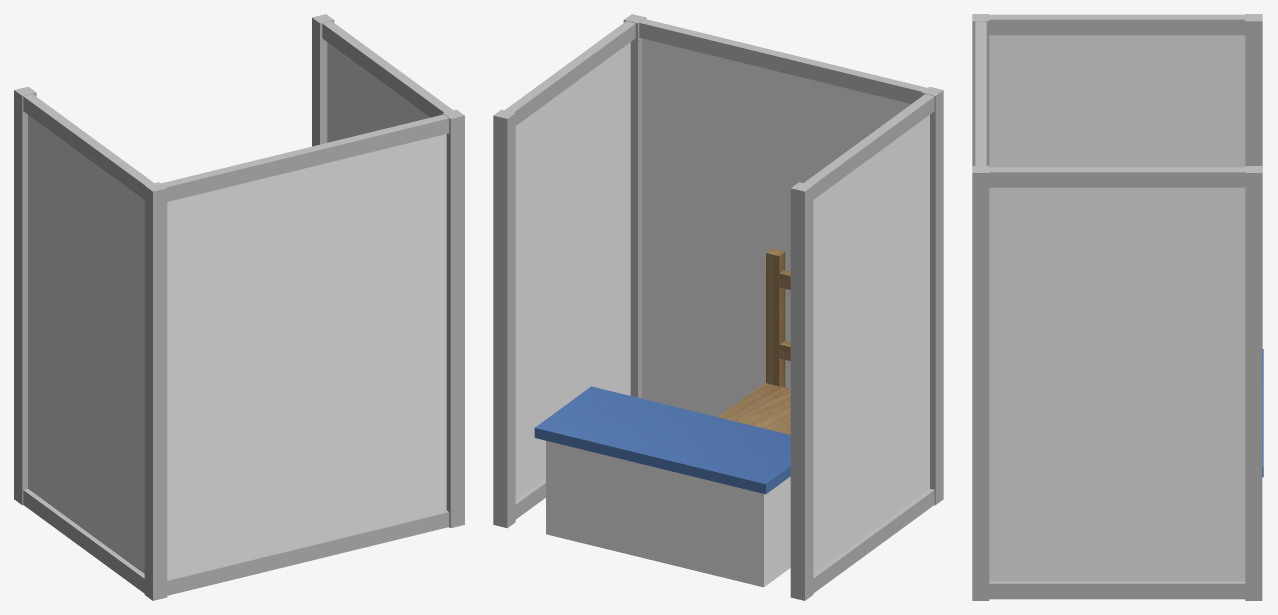
File: stands.obj
The picture shows the model from 3 angles, left to right: view 1: azimuth 30°, elevation 25°; view 2: azimuth 150°, elevation 25°; view 3: azimuth 270°, elevation 25°; orthographic projection. The views are drawn at different scales.
Parts seen in each view (by area): view 1: Plane, Plane.002, Cube.001, Cube, Cube.005, Cube.002, Plane.001, Cube.004, Cube.006, Cube.009, Cube.007, Cube.003; view 2: Plane, Plane.002, Plane.001, Cube.010, Cube.011, Cube.002, Cube.003, Cube.005, Cube.001, Cubo.013, Cube, Cube.006 (+3 smaller); view 3: Plane.001, Plane.002, Cube, Cube.003, Cube.006, Cube.009, Cube.008, Cube.002, Cube.005, Cube.001.
Part boxes in pixels (<box>): Plane: <box>167,134,446,578</box>; Plane.002: <box>28,115,144,573</box>; Cube.001: <box>144,182,167,600</box>; Cube: <box>442,109,464,528</box>; Cube.005: <box>161,114,449,201</box>; Cube.002: <box>14,86,36,505</box>; Plane.001: <box>327,42,429,142</box>; Cube.004: <box>167,510,449,595</box>; Cube.006: <box>23,94,154,199</box>; Cube.009: <box>322,21,452,117</box>; Cube.007: <box>23,489,144,593</box>; Cube.003: <box>312,14,334,146</box>; Plane: <box>642,38,910,417</box>; Plane.002: <box>813,115,929,573</box>; Plane.001: <box>515,42,630,499</box>; Cube.010: <box>546,441,790,587</box>; Cube.011: <box>534,386,790,494</box>; Cube.002: <box>790,182,813,600</box>; Cube.003: <box>493,109,515,528</box>; Cube.005: <box>639,19,926,103</box>; Cube.001: <box>921,86,943,505</box>; Cubo.013: <box>718,248,790,434</box>; Cube: <box>623,14,646,398</box>; Cube.006: <box>804,94,934,199</box>; Plane.001: <box>989,187,1245,581</box>; Plane.002: <box>989,35,1245,167</box>; Cube: <box>972,166,989,600</box>; Cube.003: <box>1245,166,1262,600</box>; Cube.006: <box>989,14,1245,35</box>; Cube.009: <box>989,167,1245,187</box>; Cube.008: <box>989,581,1245,599</box>; Cube.002: <box>1245,14,1262,348</box>; Cube.005: <box>975,21,986,165</box>; Cube.001: <box>972,14,989,165</box>.
Size of the model in its own units: 2.86 by 3.61 by 2.22.
